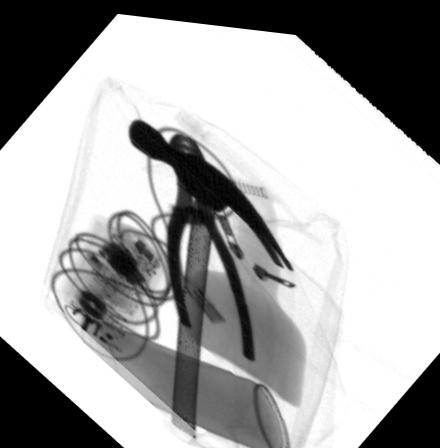Hammer: (127, 110, 295, 432)
Pliers: (166, 127, 255, 353)
